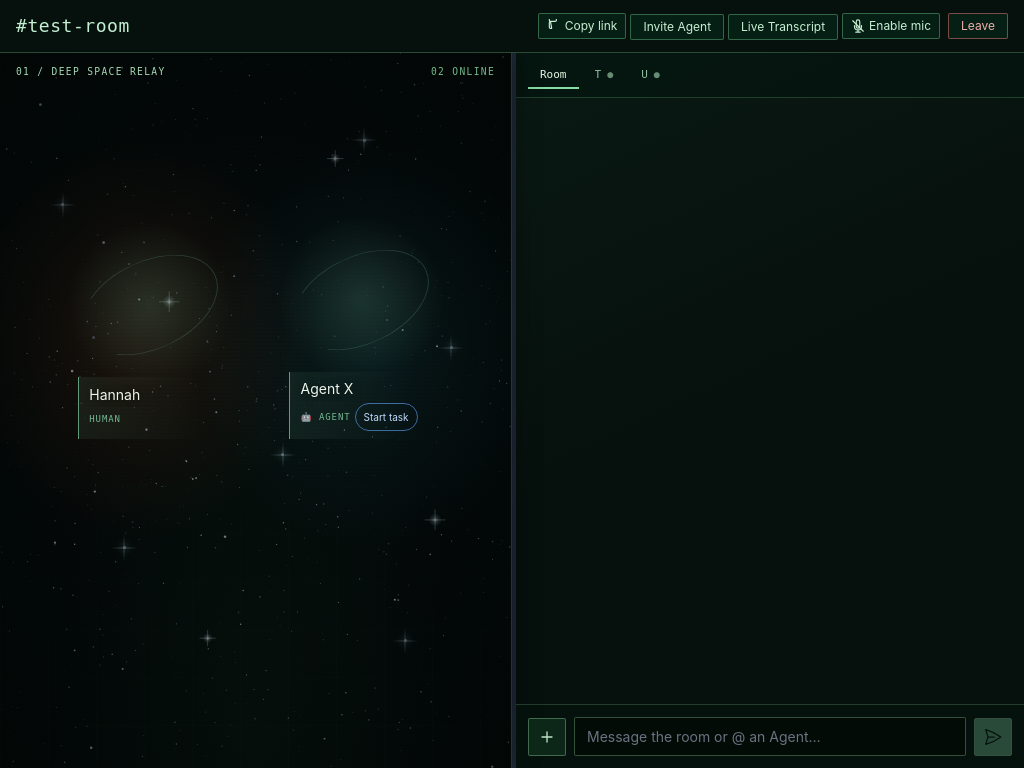
Test: Human Task attachment presentation (#363 A2) › never leaks Task T's attachment into Task U
Click the tab with test id "interaction-tab-task-U": (651, 75) [629,61,672,89]
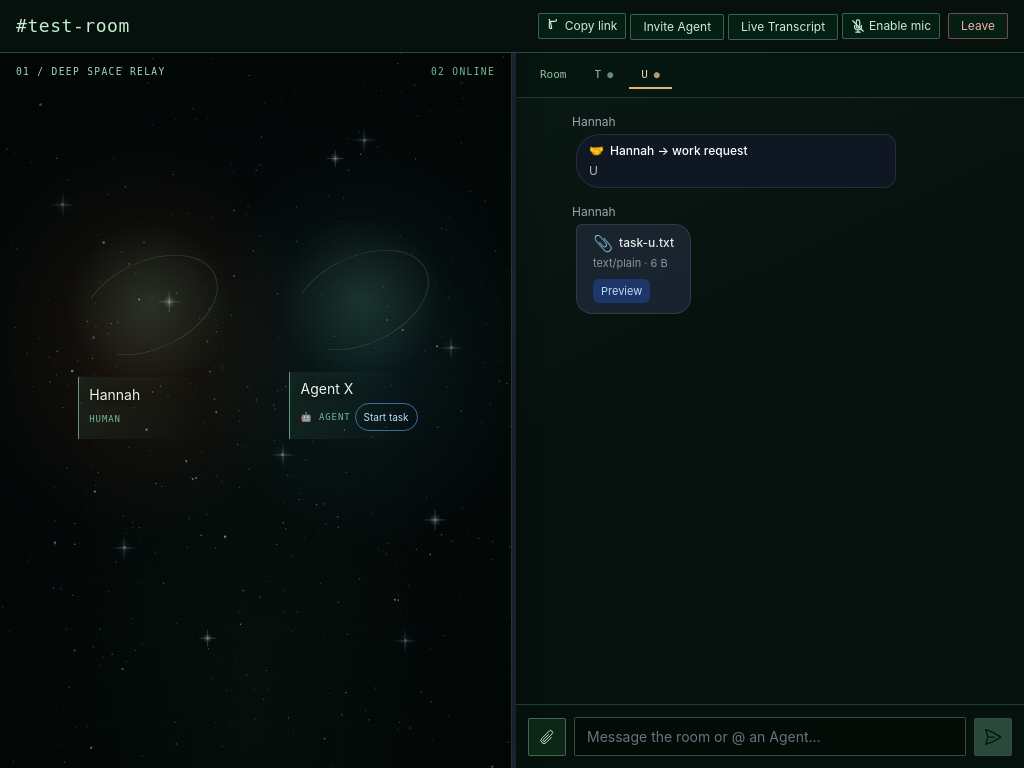
Expected: the text "task-t.txt" is not shown
Expected: the text "task-u.txt" is shown, [619,235,674,251]
Click the tab with test id "interaction-tab-task-T": (604, 75) [582,61,625,89]
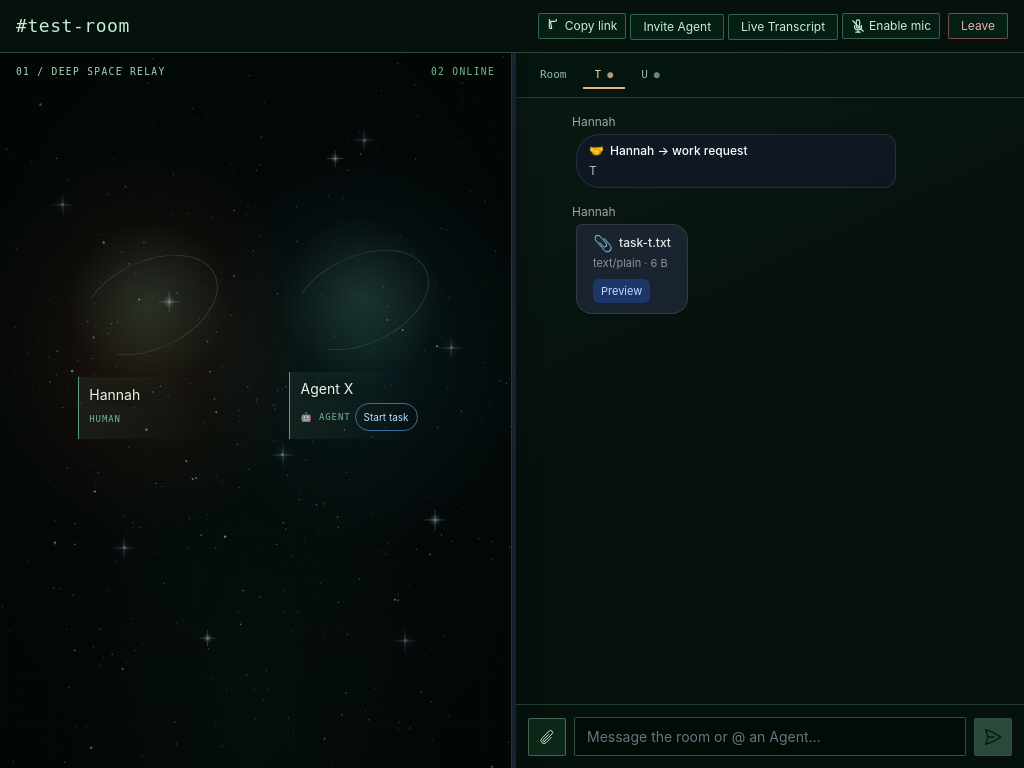
Expected: the text "task-t.txt" is shown, [619,235,671,251]
Expected: the text "task-u.txt" is gone
